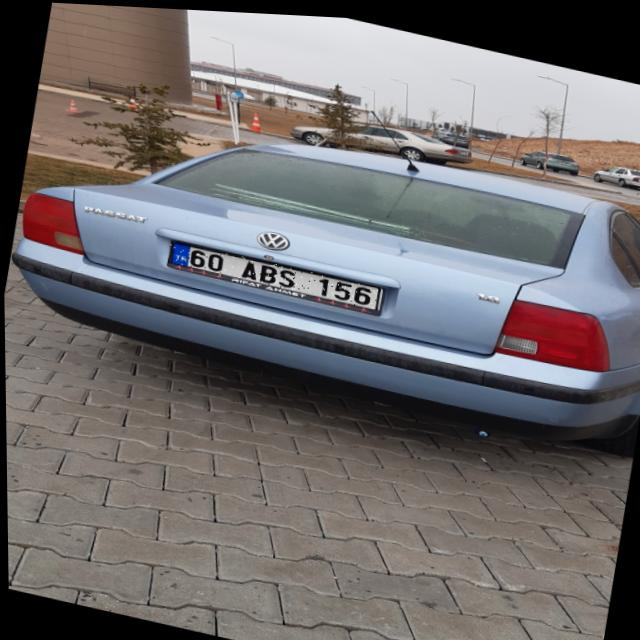license_plate: (166, 238, 381, 306)
